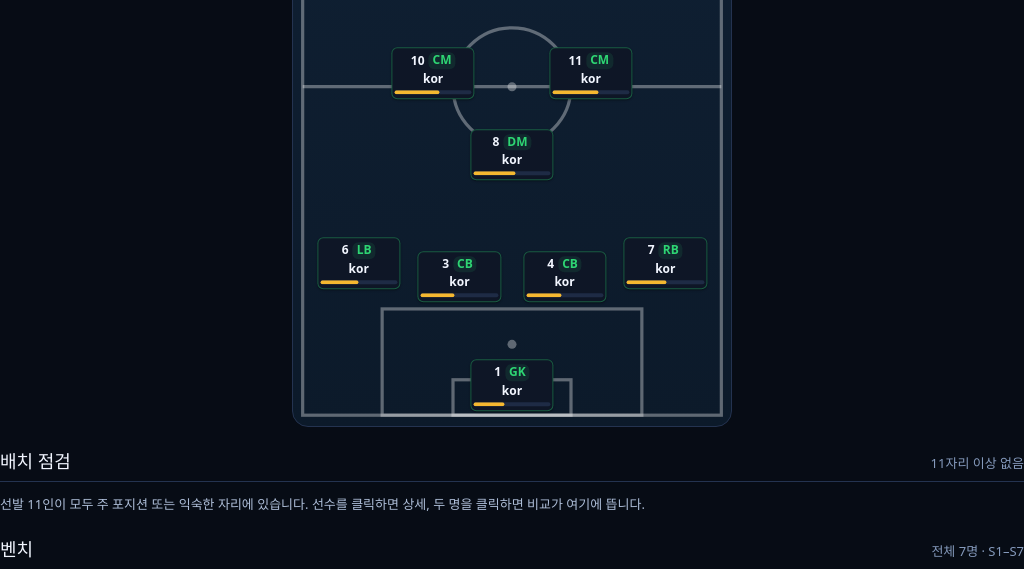
비교 뷰 — 차이를 강조한다 › 집계 한 줄·발산 막대·델타가 함께 나온다
The image size is (1024, 569).
(page scrolled)
Click the button with class "lu-chip" showing "1 GK kor" at (512, 385), box [470,359,554,411]
(page scrolled)
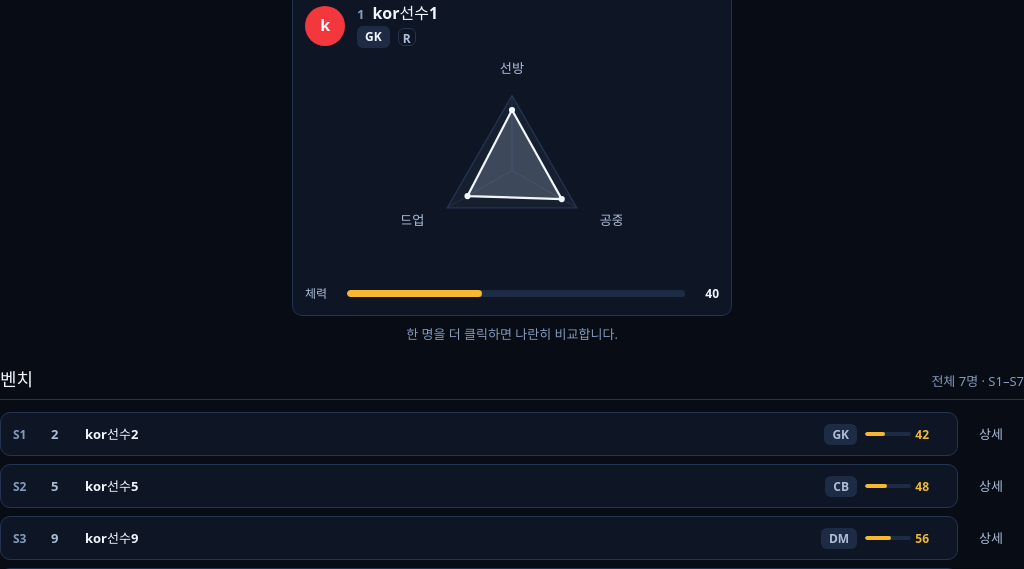
Click the 1st button with class "lu-card" at (112, 434), box [0,412,958,456]
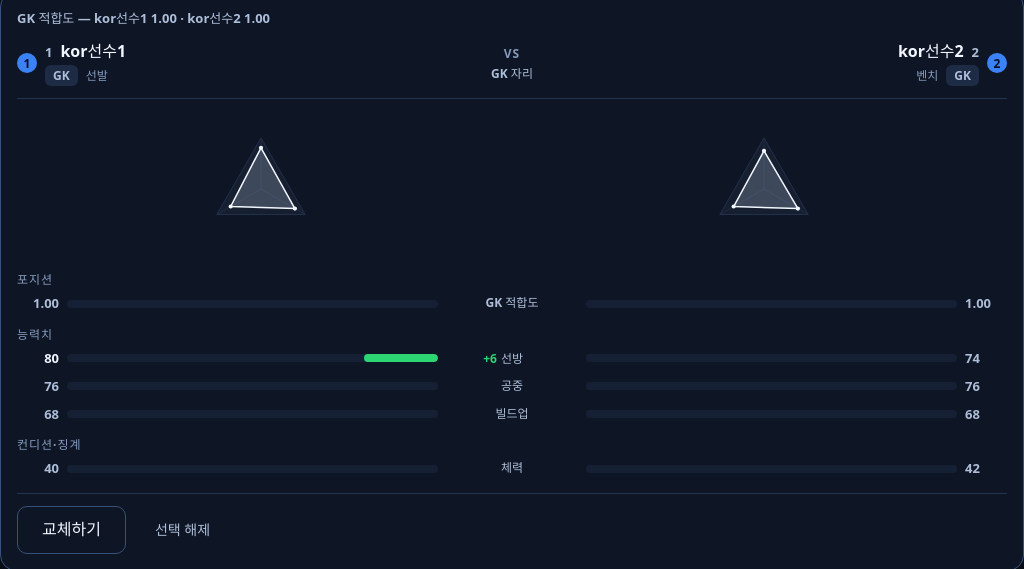
Check: the text "80" is shown, box [44,349,59,367]
Check: the element with class "cmp__fill" is shown, box [364,354,438,362]
